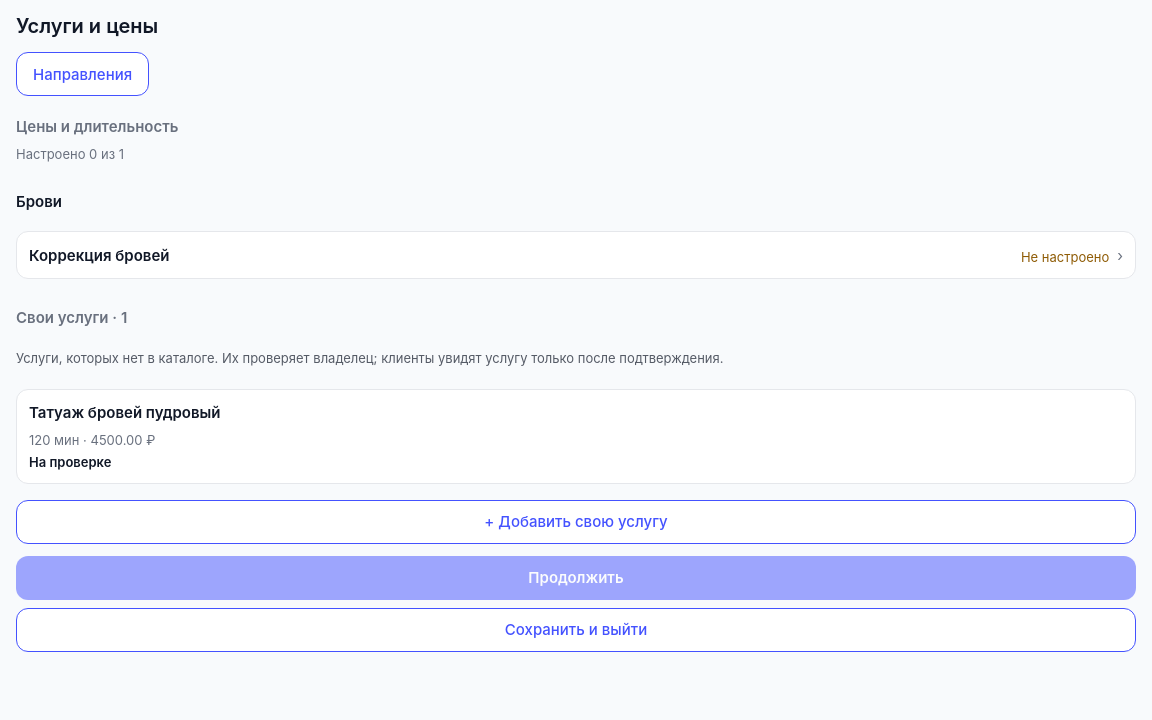
Scenario: MasterServicesScreen — экран 04 «Цены и длительность» (DRF-1810) › S8: price 0.99 / minutes 60 is refused before any request
The image size is (1152, 720).
Click the button "Коррекция бровей Не настроено ›" at (99, 255), box [16,231,1136,279]
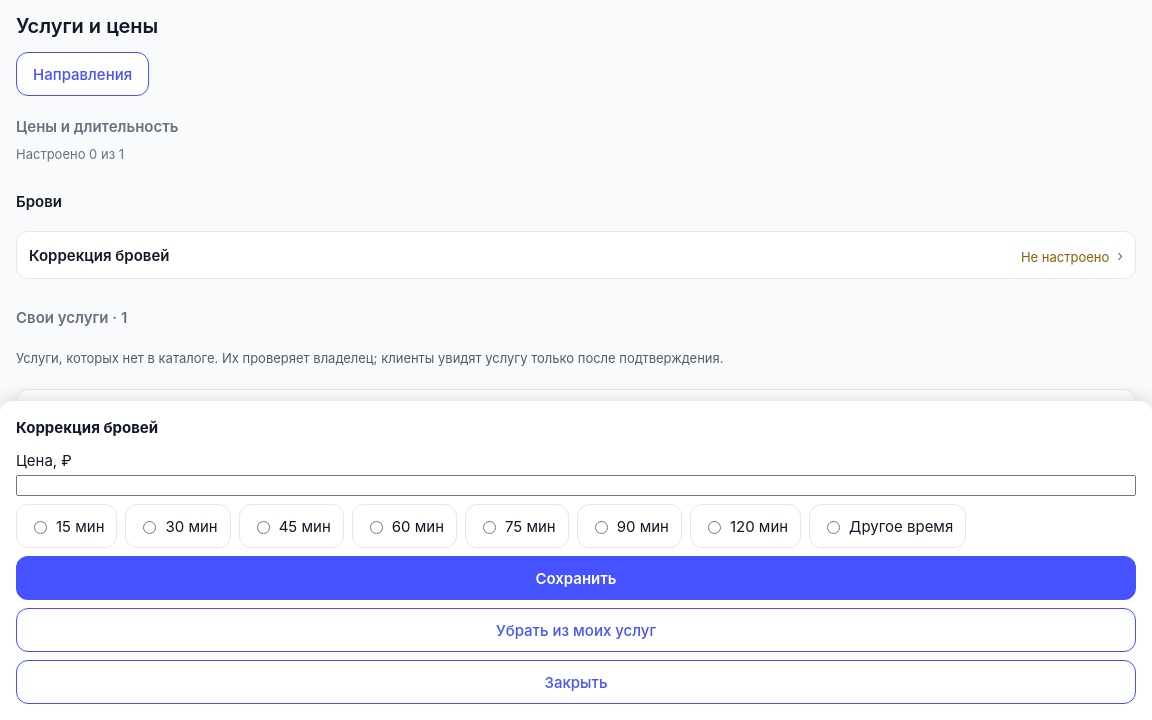
Type "0.99" into the field labelled "Цена, ₽" at (576, 486), box [16,475,1136,496]
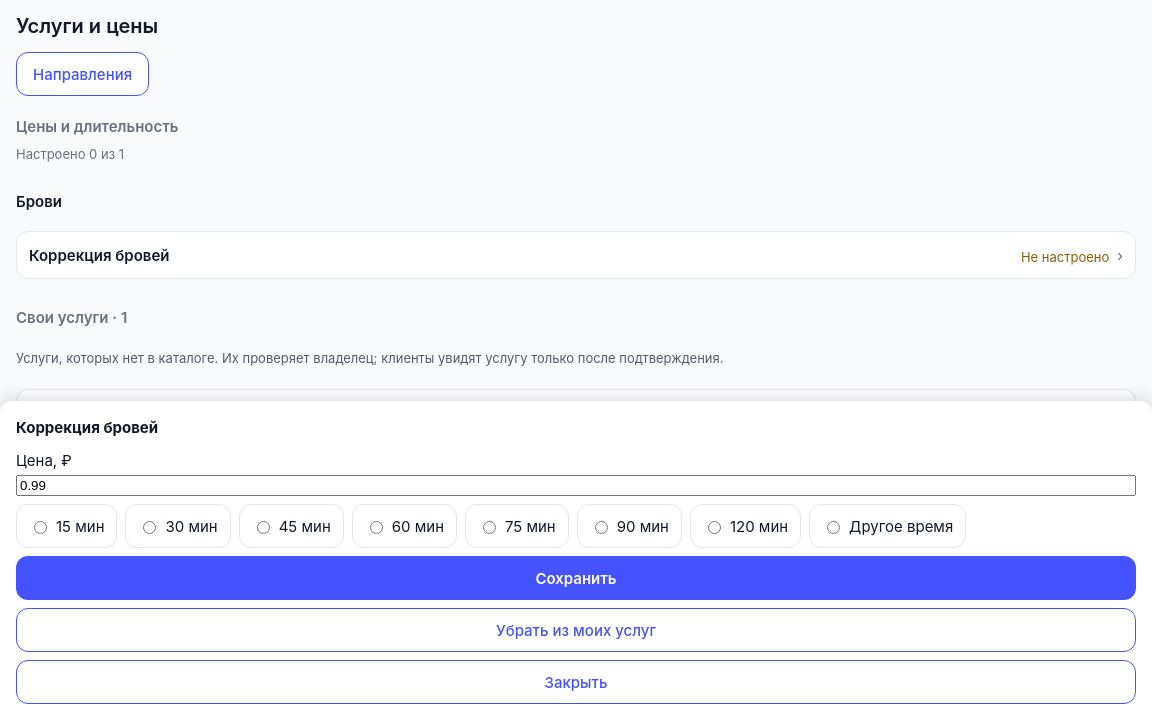
Click the radio button labelled "Другое время" at (834, 528), box [827,521,840,534]
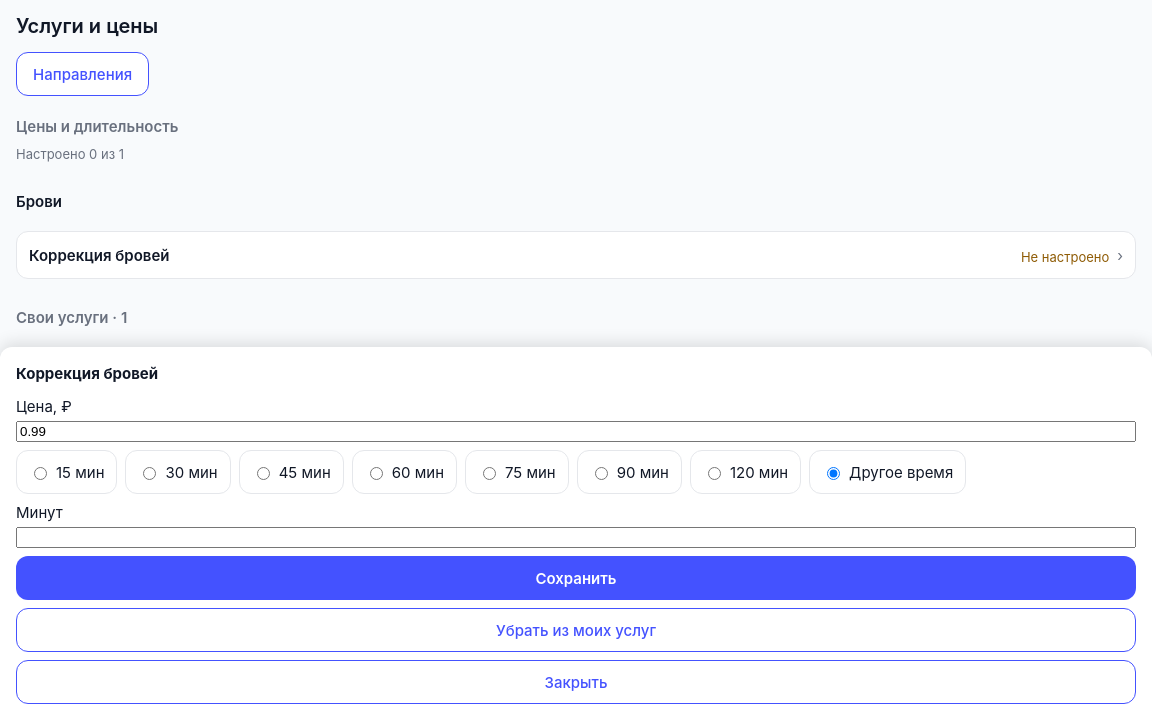
Type "60" into the field labelled "Минут" at (576, 538), box [16,527,1136,548]
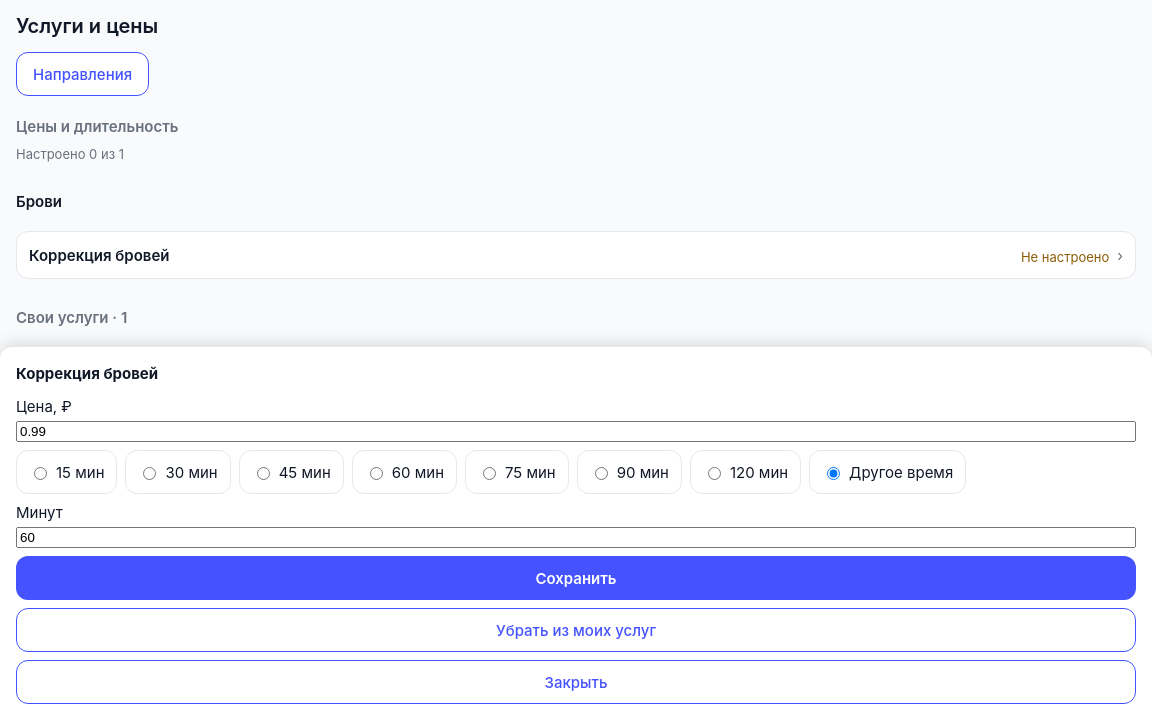
Click the button "Сохранить" at (576, 578), box [16,556,1136,600]
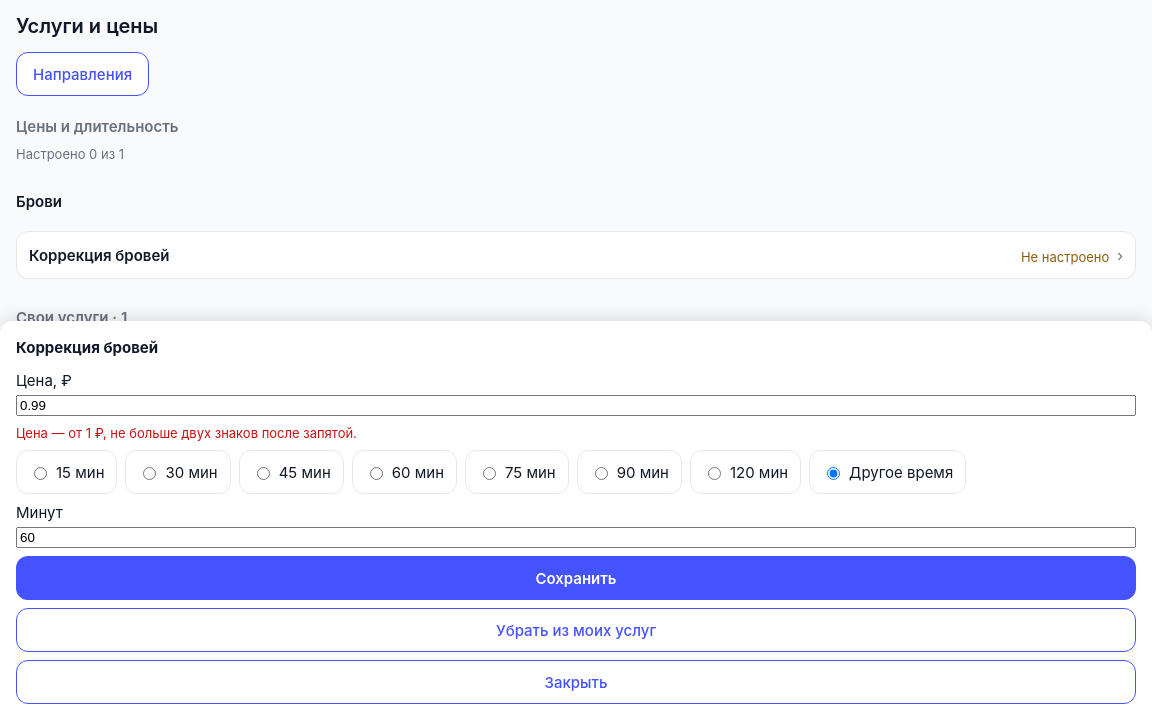
expect the text "Цена — от 1 ₽, не больше двух знаков после запятой." is shown: met, box [16,425,357,441]
